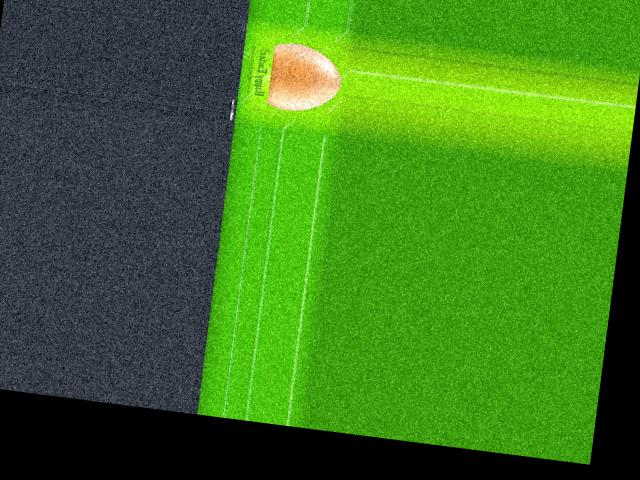egg: (267, 41, 345, 115)
